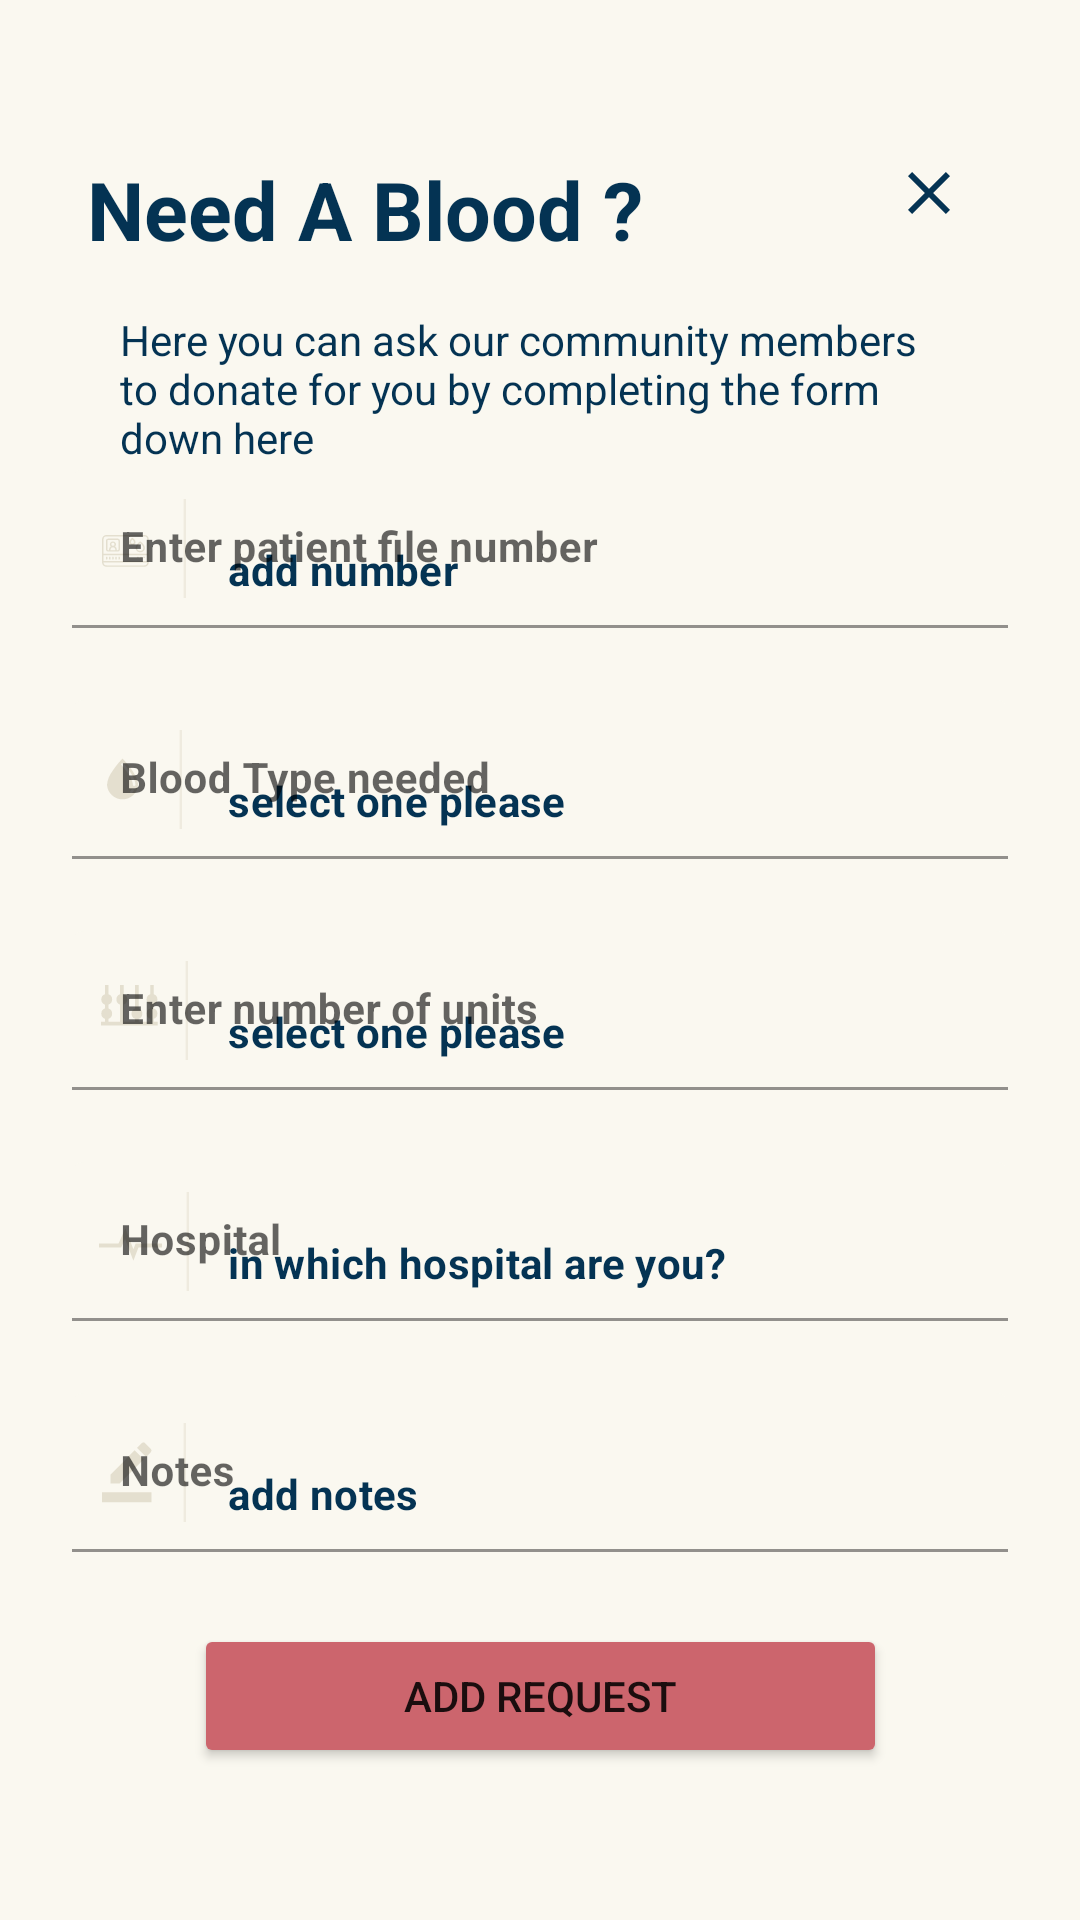

Where to tap for icons on this 1080px x 1920px app screen, as [x,y]:
close: [929,193]
